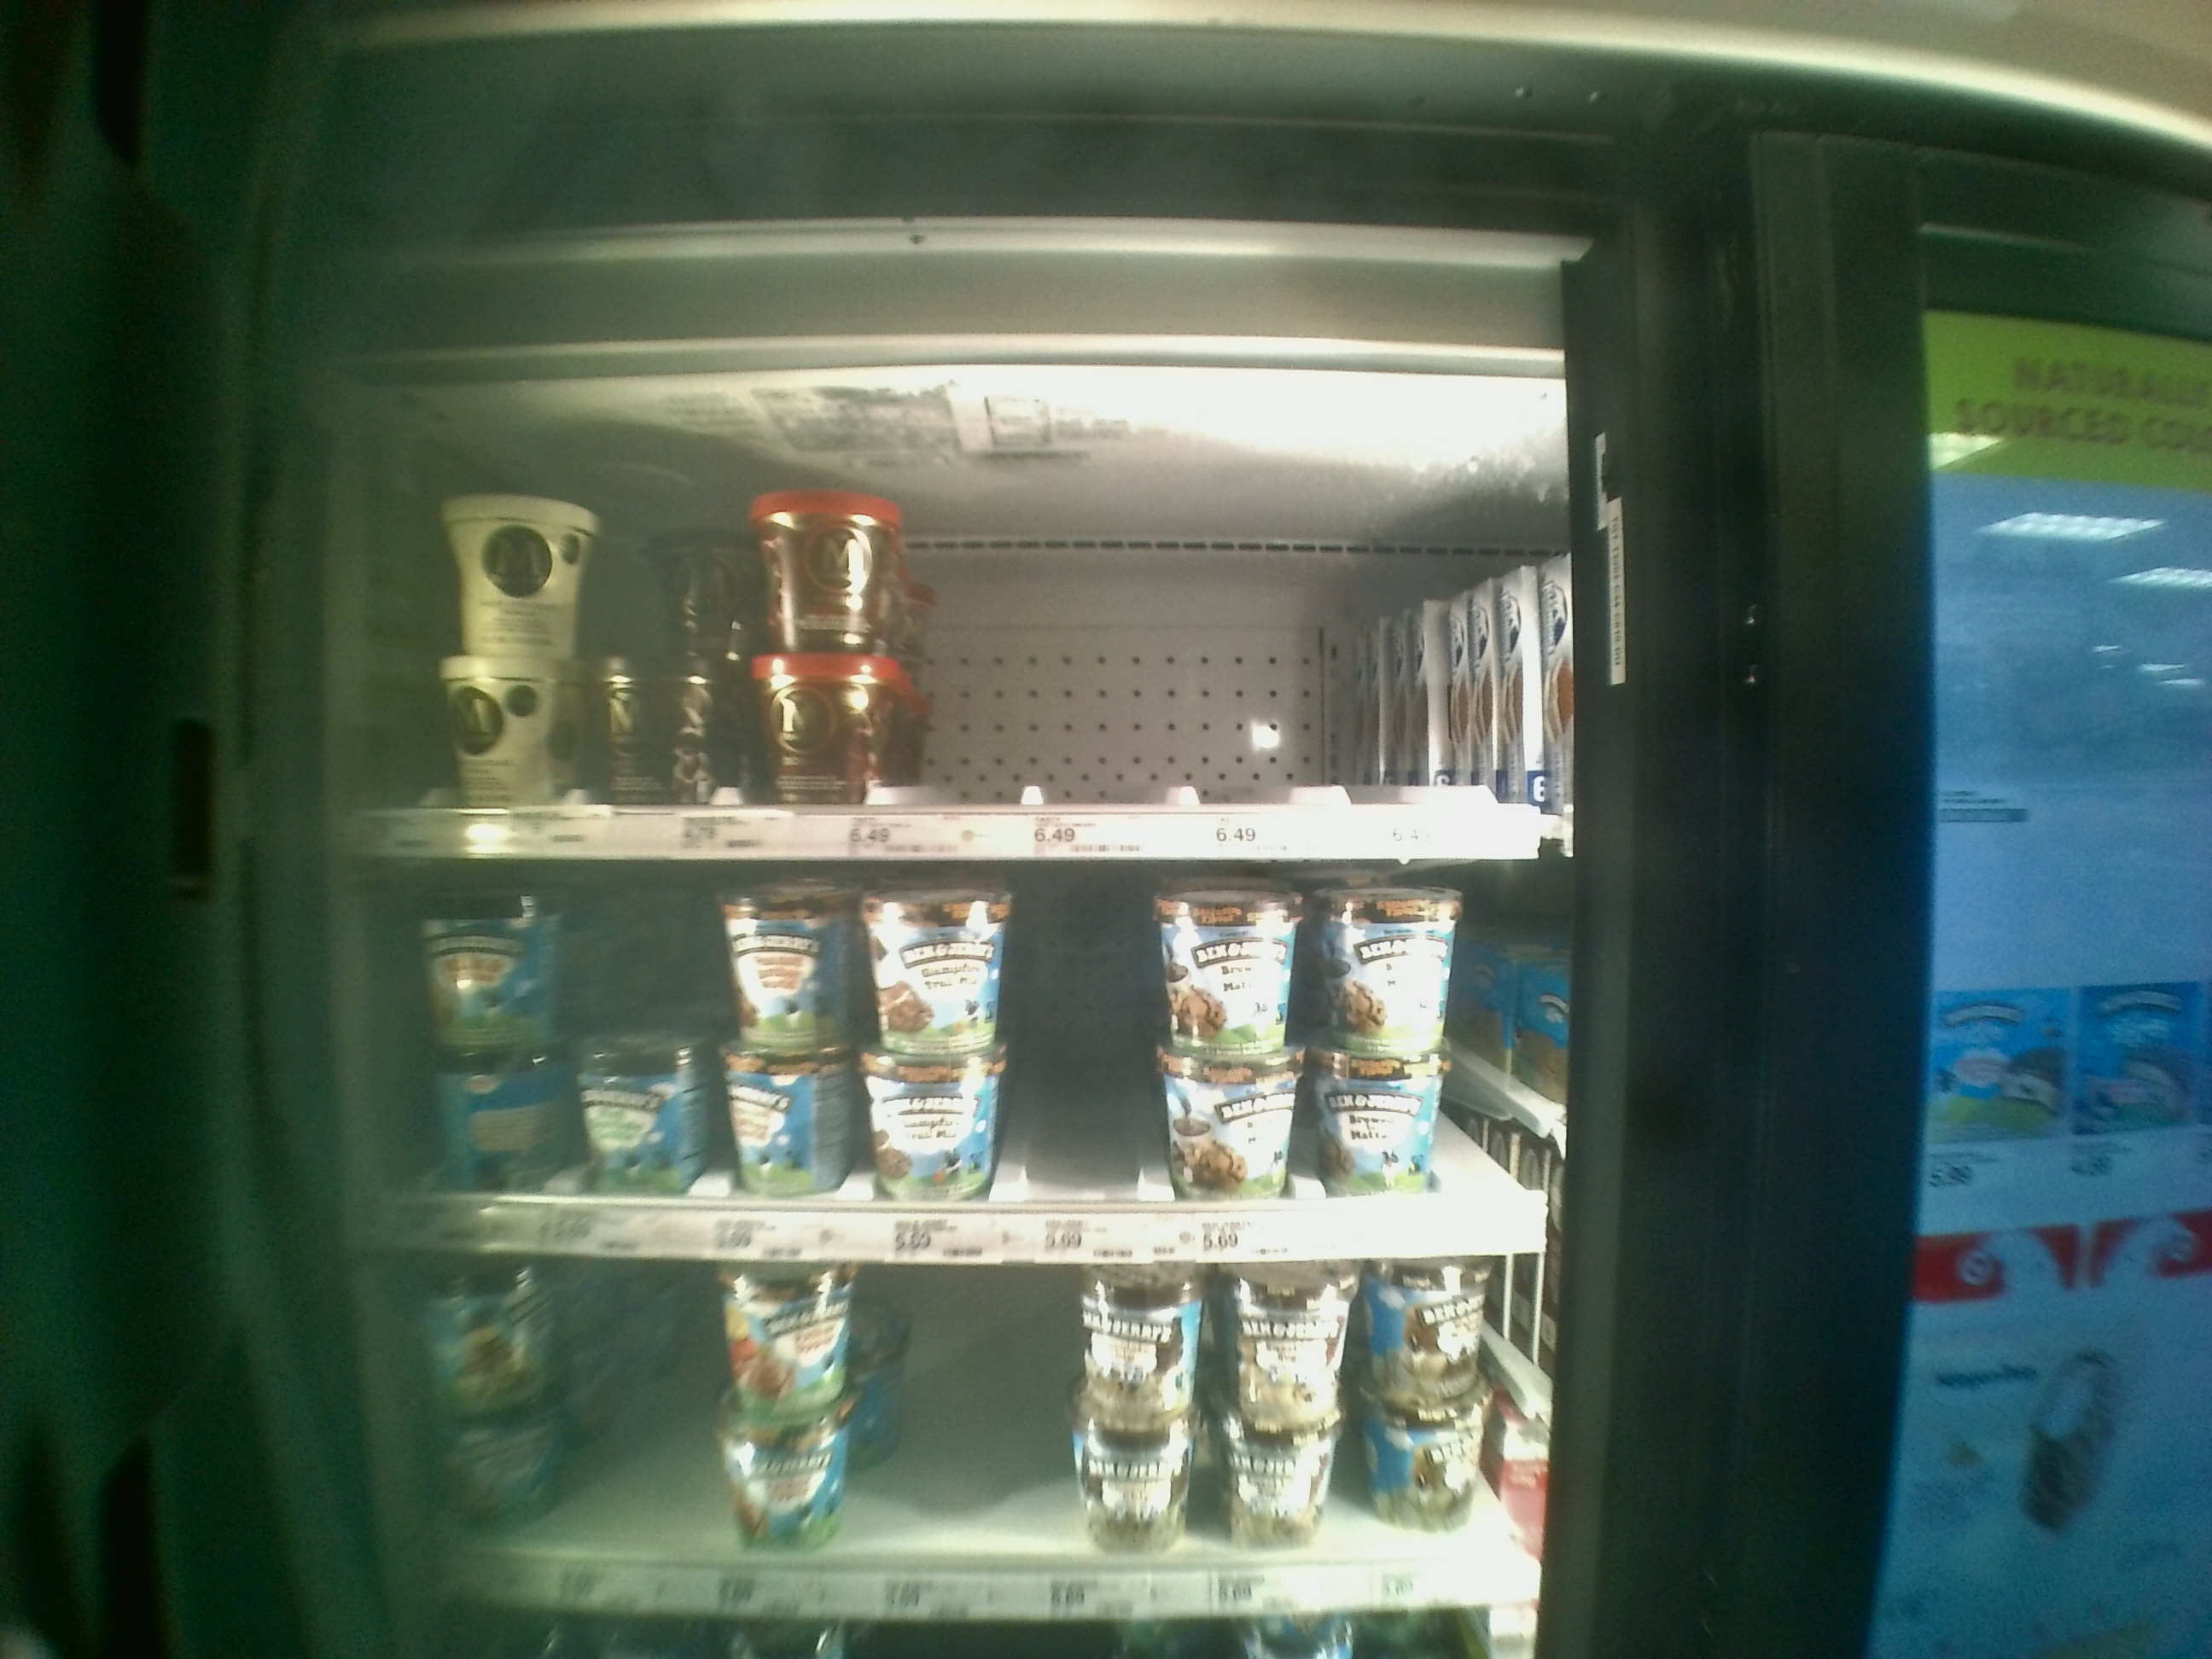shelf: (374, 404, 1564, 852), (364, 847, 1545, 1258), (361, 1256, 1536, 1635)
